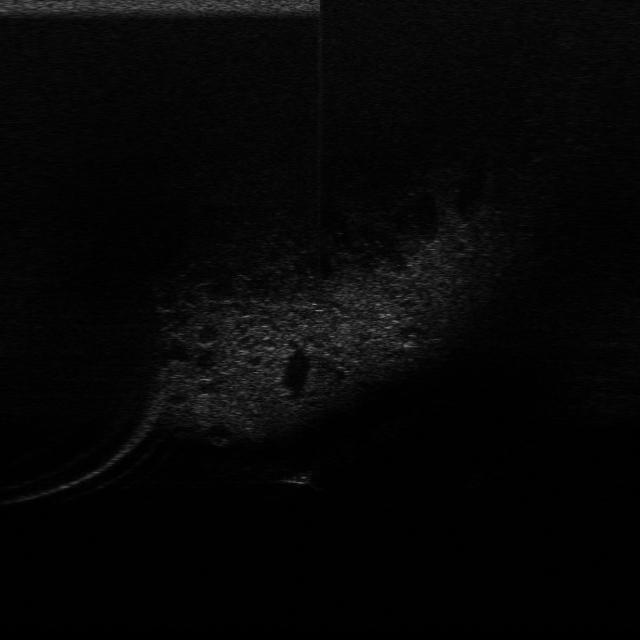cube: (276, 467, 316, 488)
